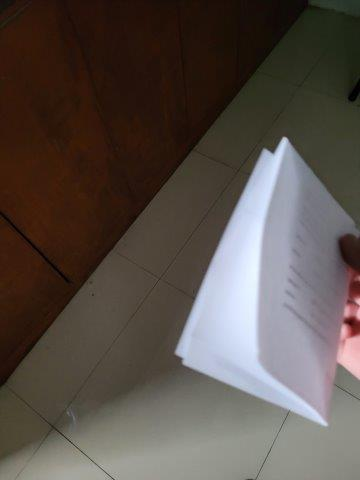kertas: (179, 138, 355, 427)
